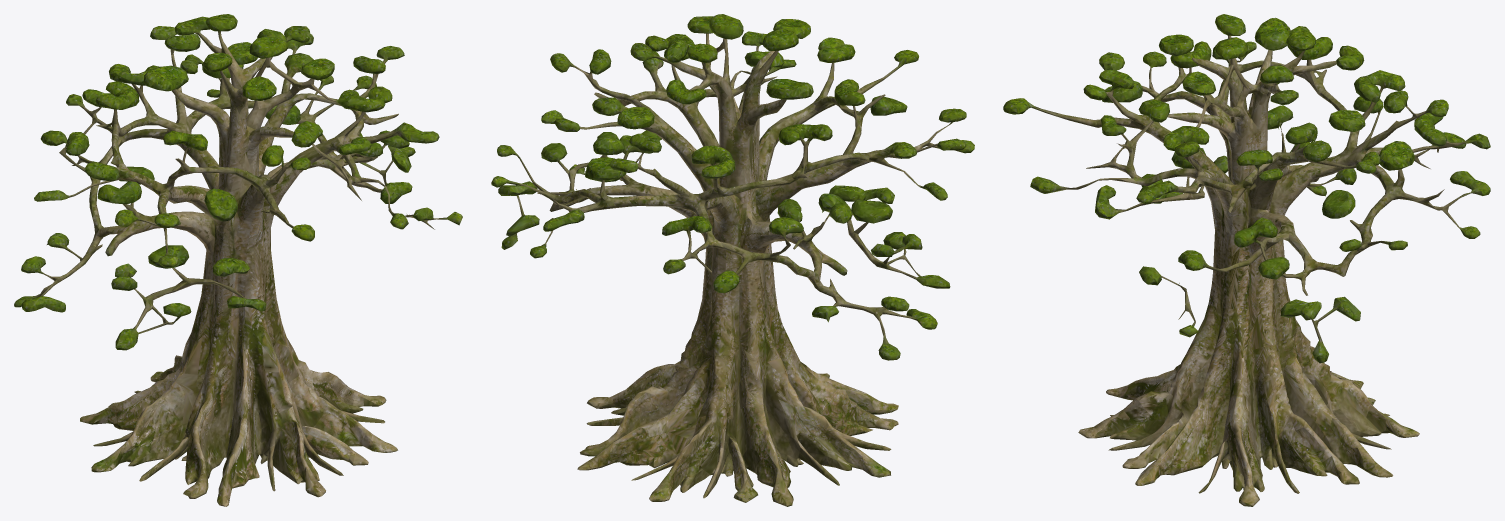
Rendered from VEG_CeibaTropical_01_LOD1.fbx.
The picture shows the model from 3 angles, left to right: view 1: azimuth 30°, elevation 25°; view 2: azimuth 150°, elevation 25°; view 3: azimuth 270°, elevation 25°; orthographic projection. The views are drawn at different scales.
Visible parts, largest first — view 1: VEG_CeibaTropical_01_Mesh000; view 2: VEG_CeibaTropical_01_Mesh000; view 3: VEG_CeibaTropical_01_Mesh000.
Part boxes in pixels (left/top/right/bottom): VEG_CeibaTropical_01_Mesh000: left=14, top=14, right=462, bottom=506; VEG_CeibaTropical_01_Mesh000: left=491, top=14, right=974, bottom=506; VEG_CeibaTropical_01_Mesh000: left=1003, top=14, right=1490, bottom=506.
Size of the model in its own units: 23.65 by 22 by 24.06.
